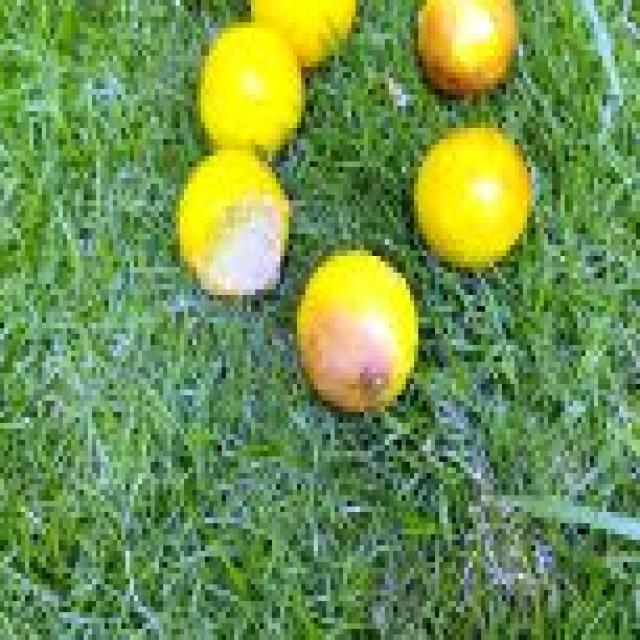Bad_Lime-0-1-day: (293, 250, 418, 417), (176, 150, 297, 306), (414, 0, 519, 106)
Good_Lime-10-21-days: (197, 0, 360, 156), (414, 128, 535, 273)
